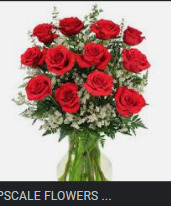RedRose: (115, 87, 148, 118), (75, 44, 111, 70), (43, 45, 74, 74), (54, 82, 80, 115), (84, 72, 115, 96), (122, 48, 150, 74), (24, 74, 52, 99), (19, 44, 47, 68), (91, 17, 118, 41), (32, 22, 59, 45), (58, 17, 85, 38), (122, 25, 145, 46)
